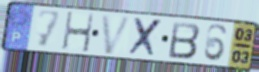6: (202, 23, 229, 64)
7: (36, 8, 62, 50)
B: (167, 20, 202, 60)
H: (61, 11, 96, 54)
V: (99, 14, 134, 56)
X: (127, 16, 164, 59)
